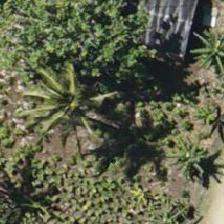coconut_tree: (23, 56, 113, 146)
